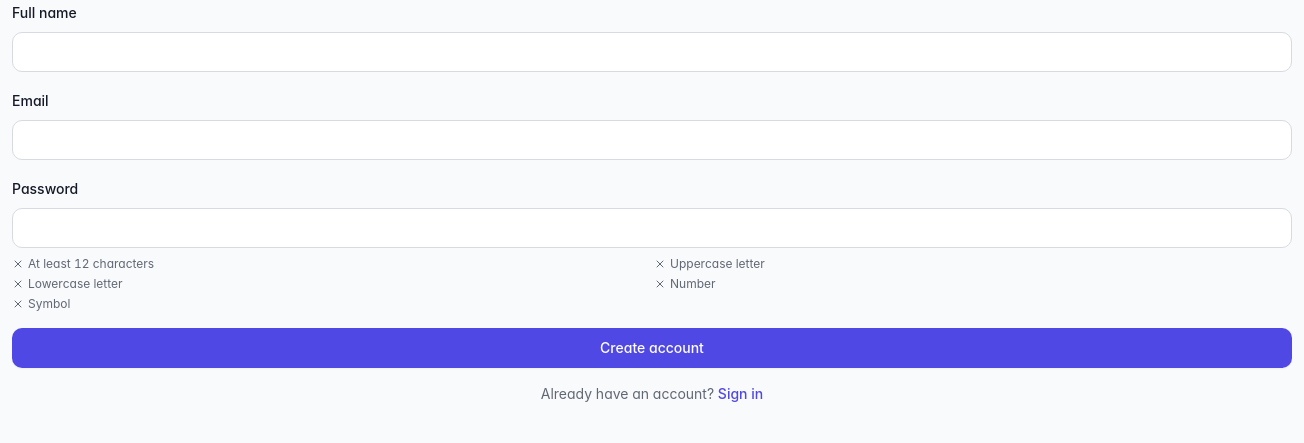
Test: RegisterForm › maps DUPLICATE_EMAIL to the email field
Step 1. Type "Asha Rao" into the field labelled "Full name" → x=652, y=52, box 12,32 -> 1292,72
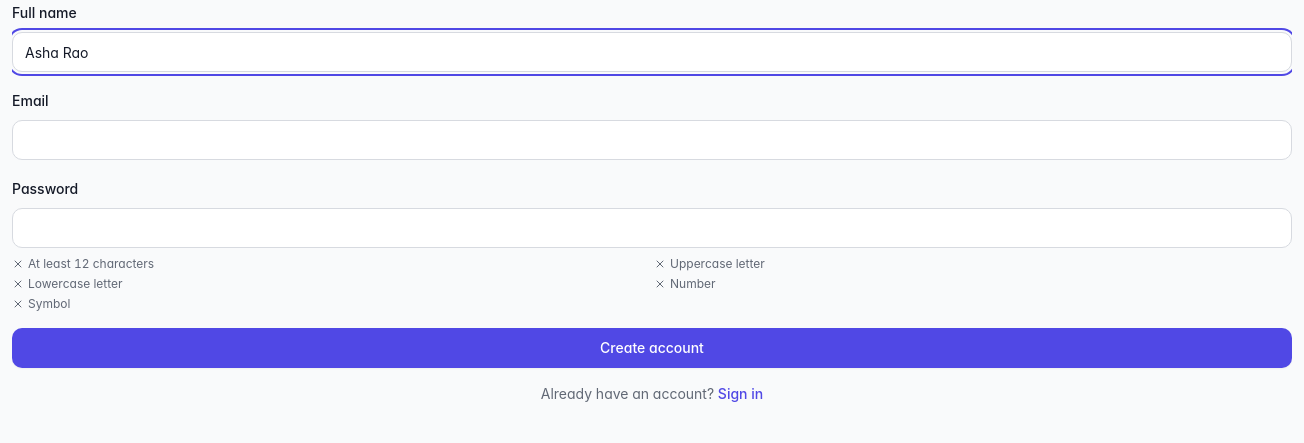
Step 2. Type "asha@example.com" into the field labelled "Email" → x=652, y=140, box 12,120 -> 1292,160
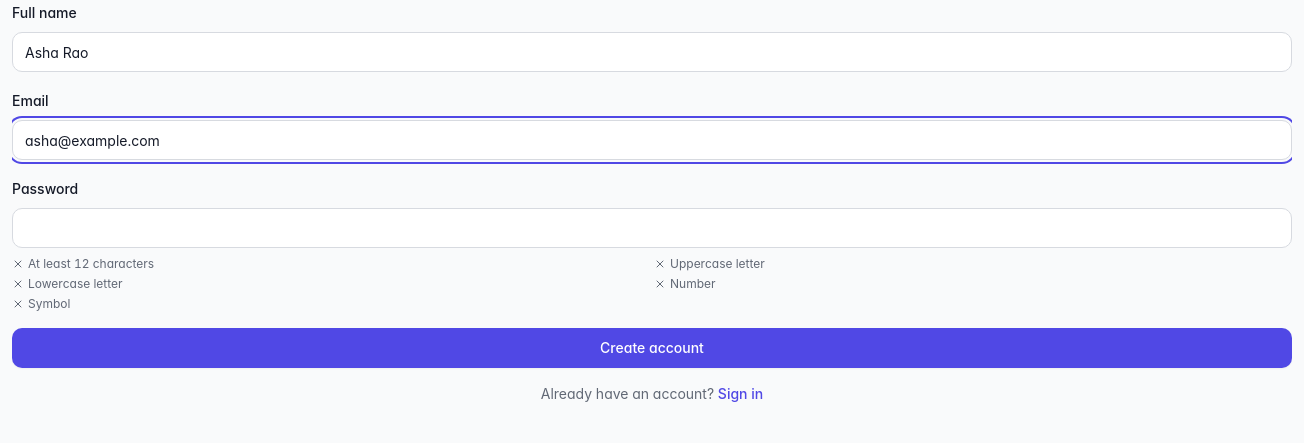
Step 3. Type "Tr0pic@lThund3r!" into the password field labelled "Password" → x=652, y=228, box 12,208 -> 1292,248
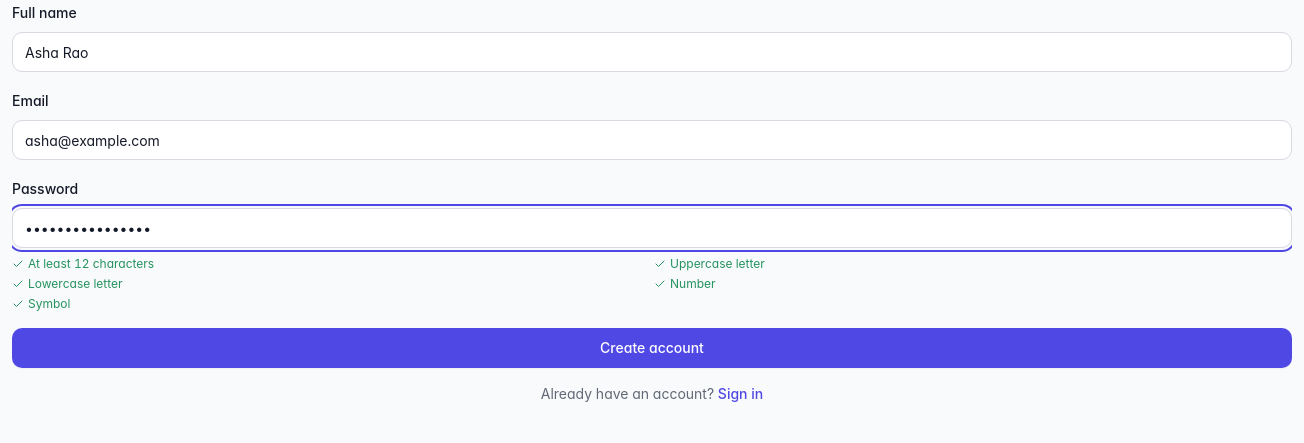
Step 4. Click the button "Create account" → x=652, y=348, box 12,328 -> 1292,368
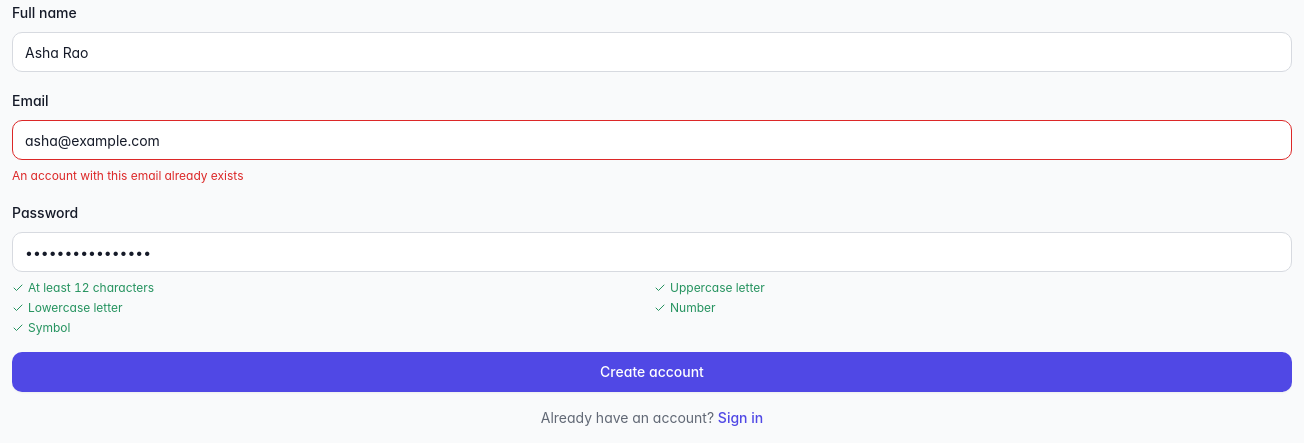
Expected: the text "An account with this email already exists" is shown, 12,168 -> 244,183
